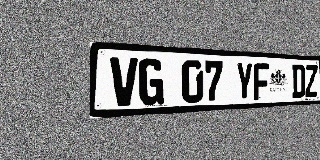0: (182, 60, 203, 103)
7: (204, 61, 223, 102)
D: (292, 64, 305, 98)
F: (253, 63, 269, 100)
G: (139, 58, 163, 106)
V: (110, 57, 138, 107)
Y: (236, 62, 253, 101)
Z: (305, 65, 317, 98)
